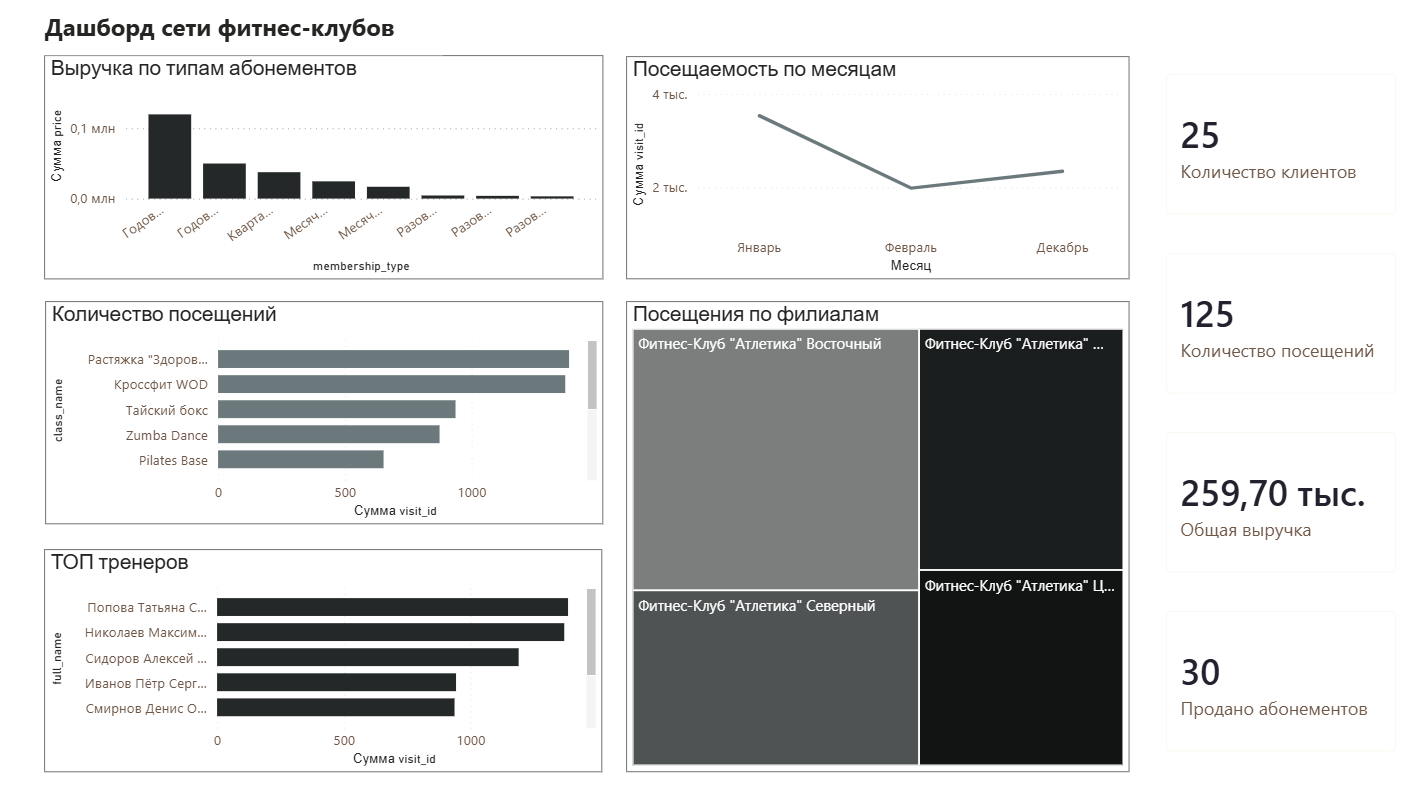

The dashboard page shown, as its layout file describes it:
{"tool":"powerbi","page":{"name":"Страница 1","canvas":[1280,720],"ordinal":0},"visuals":[{"type":"lineChart","title":"Посещаемость по месяцам","fields":{"Category":["Visits.visit_date.Изменение.Иерархия дат.Год","Visits.visit_date.Изменение.Иерархия дат.Квартал","Visits.visit_date.Изменение.Иерархия дат.Месяц","Visits.visit_date.Изменение.Иерархия дат.День"],"Y":["Sum(Visits.visit_id)"]},"box":[564.2,57.3,451.3,199.7],"z":0},{"type":"columnChart","title":"Выручка по типам абонементов","fields":{"Category":["Memberships.membership_type"],"Y":["Sum(Memberships.price)"]},"box":[43,56.4,500.6,200.6],"z":1000},{"type":"barChart","title":"ТОП тренеров","fields":{"Y":["Sum(Visits.visit_id)"],"Category":["Trainers.full_name"]},"box":[43,498.8,499.7,199.7],"z":2000},{"type":"treemap","title":"Посещения по филиалам","fields":{"Group":["Branches.branch_name"],"Values":["Sum(Visits.visit_id)"]},"box":[564.2,276.7,451.3,421.8],"z":3000},{"type":"clusteredBarChart","title":"Количество посещений","fields":{"Category":["Classes.class_name"],"Y":["Sum(Visits.visit_id)"]},"box":[43.9,276.7,499.7,199.7],"z":4000},{"type":"textbox","box":[0,11.6,400.3,44.8],"z":5000},{"type":"cardVisual","fields":{"Data":["Branches.Количество клиентов"]},"box":[1030.7,56.4,240,160],"z":6000},{"type":"cardVisual","fields":{"Data":["Branches.Количество посещений"]},"box":[1030.7,216.7,240,160.3],"z":7000},{"type":"cardVisual","fields":{"Data":["Branches.Общая выручка"]},"box":[1030.7,377,240,160.3],"z":8000},{"type":"cardVisual","fields":{"Data":["Branches.Продано абонементов"]},"box":[1030.7,537.3,240,160.3],"z":9000}]}

Visuals, with their boxes in screenshot pixels (x1, y1, x2, y2), scaled from the page's 1280x720 canvas onto the 1418x792 screenshot:
"Посещаемость по месяцам" lineChart: [625, 63, 1125, 283]
"Выручка по типам абонементов" columnChart: [48, 62, 602, 283]
"ТОП тренеров" barChart: [48, 549, 601, 768]
"Посещения по филиалам" treemap: [625, 304, 1125, 768]
"Количество посещений" clusteredBarChart: [49, 304, 602, 524]
textbox: [0, 13, 443, 62]
cardVisual - Branches.Количество клиентов: [1142, 62, 1408, 238]
cardVisual - Branches.Количество посещений: [1142, 238, 1408, 415]
cardVisual - Branches.Общая выручка: [1142, 415, 1408, 591]
cardVisual - Branches.Продано абонементов: [1142, 591, 1408, 767]
